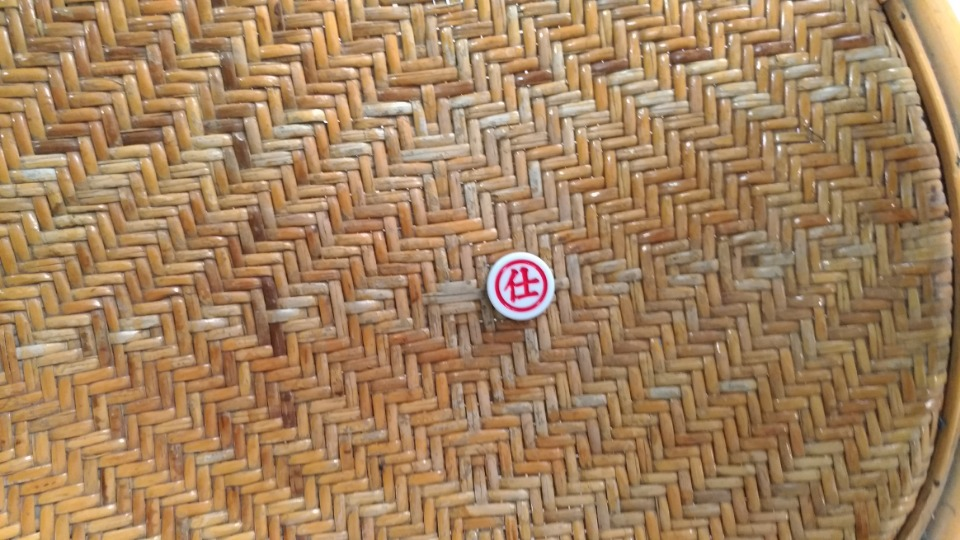r-advisor: (480, 253, 563, 326)
